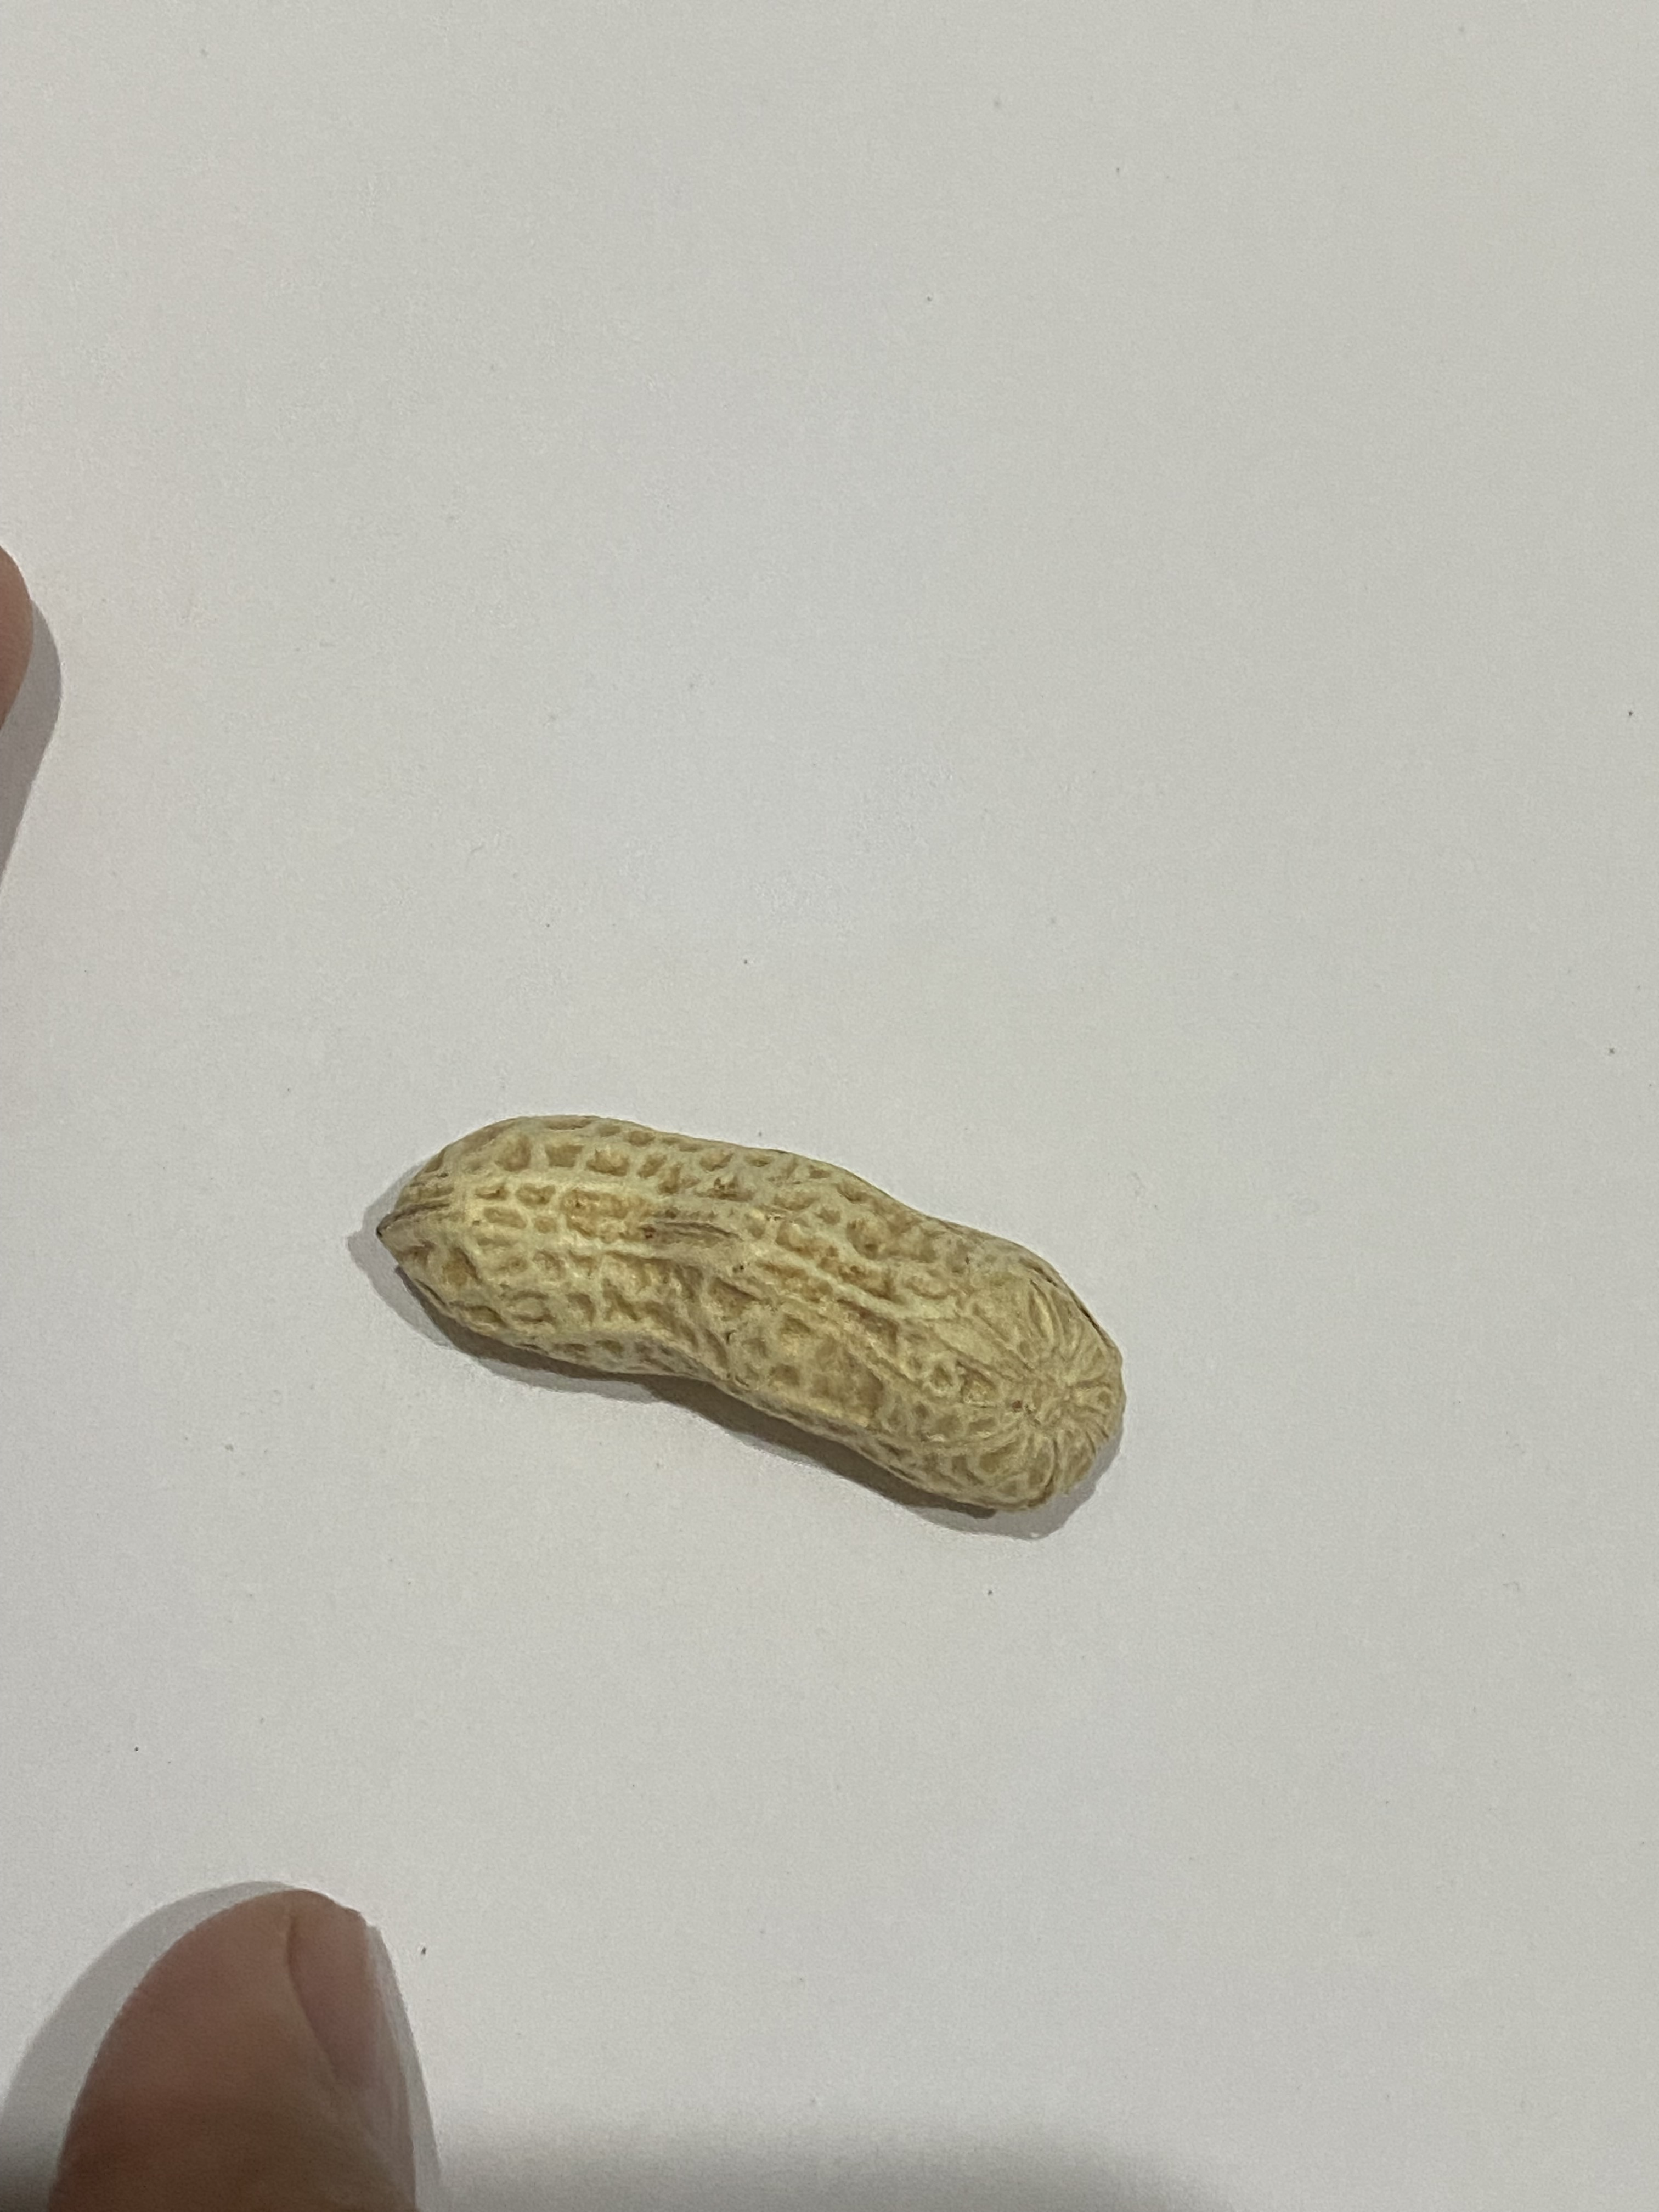kacang3: (375, 1106, 1133, 1521)
